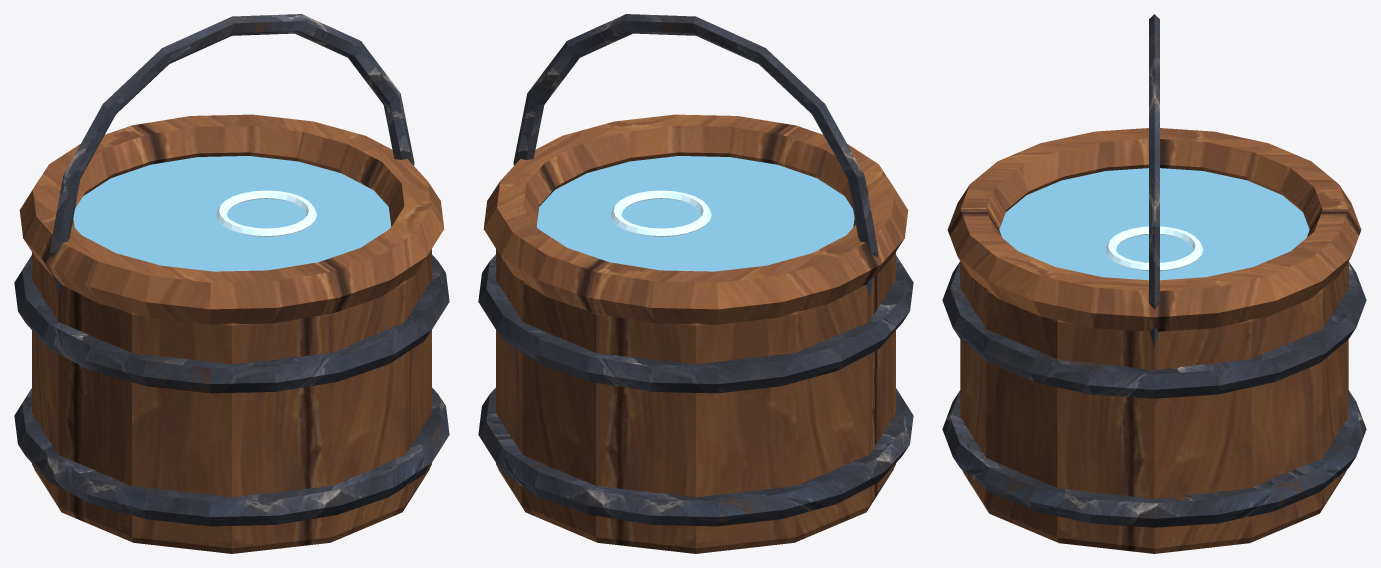
Rendered from water_bucket.glb.
The picture shows the model from 3 angles, left to right: view 1: azimuth 30°, elevation 25°; view 2: azimuth 150°, elevation 25°; view 3: azimuth 270°, elevation 25°; orthographic projection. The views are drawn at different scales.
Visible parts, largest first — view 1: model; view 2: model; view 3: model.
Part boxes in pixels (<box>): model: <box>14,14,449,553</box>; model: <box>478,14,913,553</box>; model: <box>942,14,1366,553</box>.
Size of the model in its own units: 0.328 by 0.378 by 0.328.
Materials: 6 (4 with a texture image).
